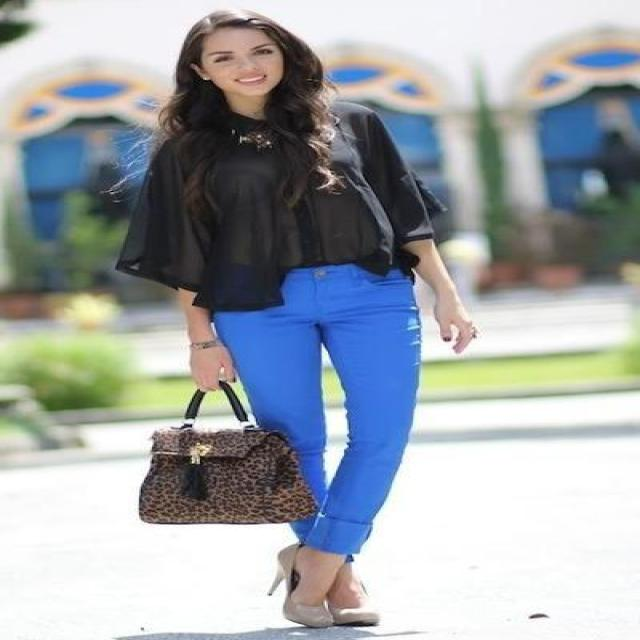bag: (139, 381, 317, 524)
pants: (208, 265, 421, 562)
shirt: (115, 90, 456, 319)
shoe: (269, 542, 363, 629)
